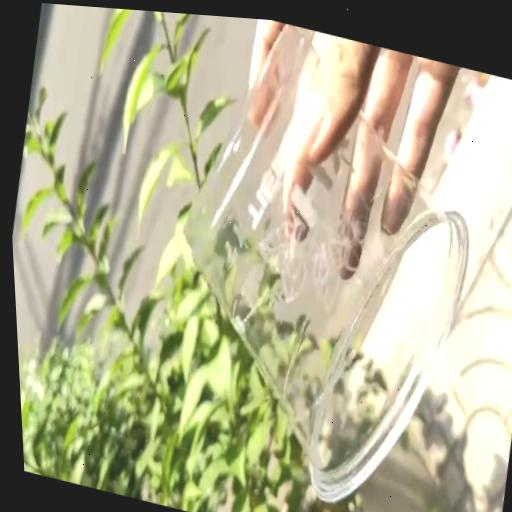ly_giay: (184, 27, 467, 500)
